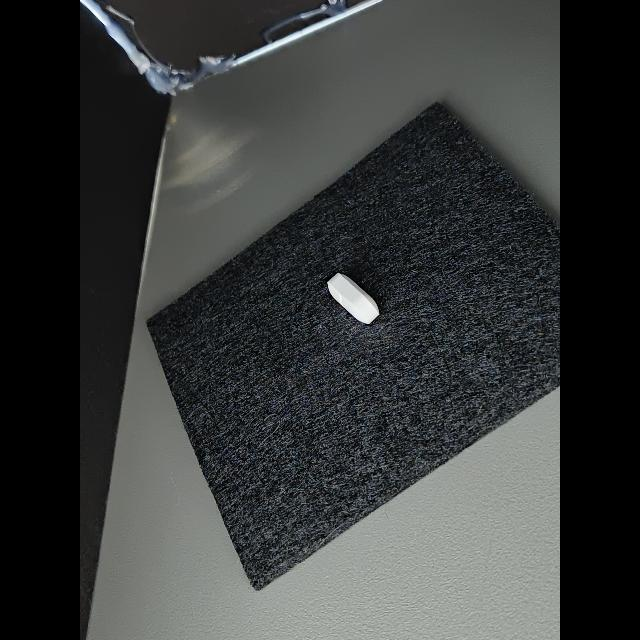Intact Pill: (327, 273, 379, 324)
